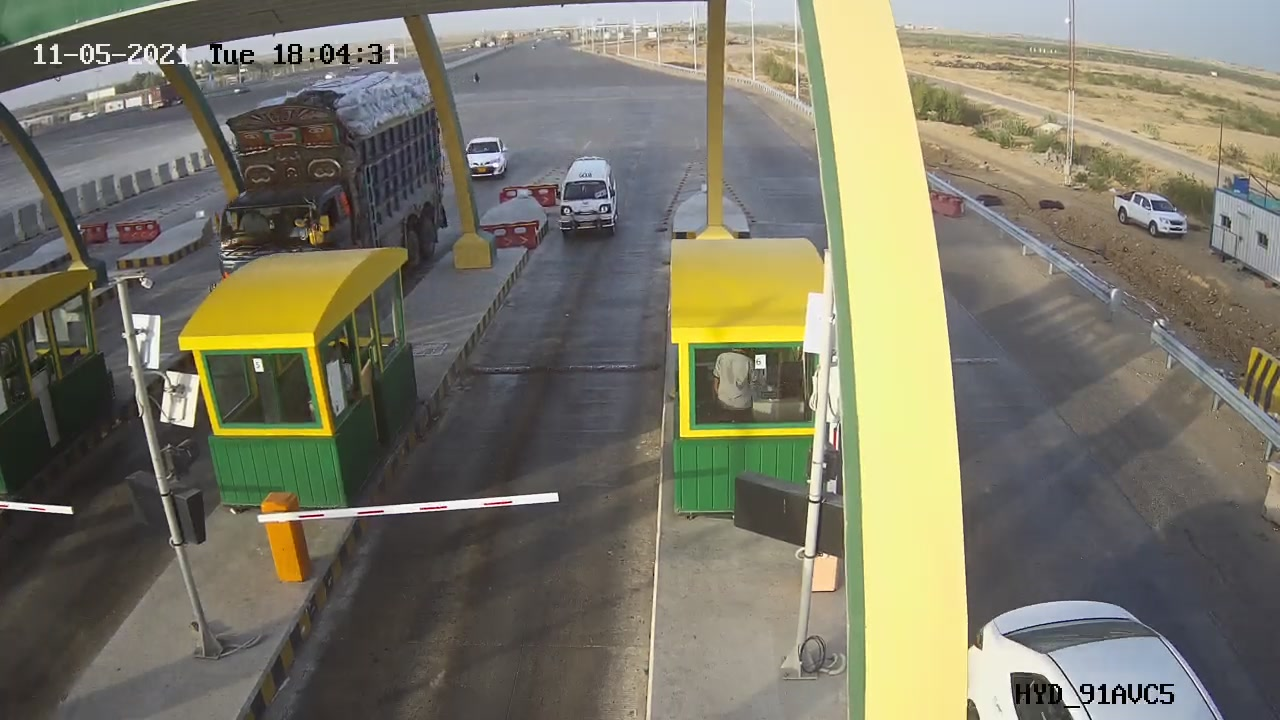F1: (526, 142, 642, 259)
